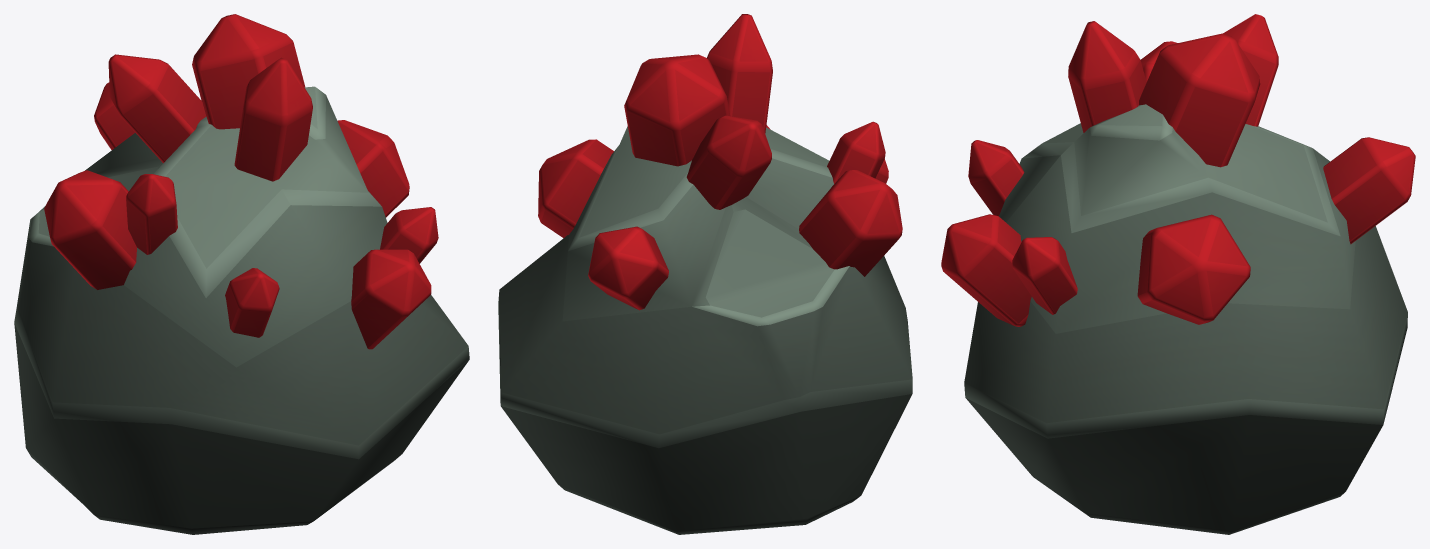
The picture shows the model from 3 angles, left to right: view 1: azimuth 30°, elevation 25°; view 2: azimuth 150°, elevation 25°; view 3: azimuth 270°, elevation 25°; orthographic projection. The views are drawn at different scales.
Visible parts, largest first — view 1: ore_christal_saphire_L_cube_mat_0.006; view 2: ore_christal_saphire_L_cube_mat_0.006; view 3: ore_christal_saphire_L_cube_mat_0.006.
Boxes of the visible parts, left/top/right/bottom form: ore_christal_saphire_L_cube_mat_0.006: left=14, top=14, right=469, bottom=534; ore_christal_saphire_L_cube_mat_0.006: left=498, top=14, right=912, bottom=534; ore_christal_saphire_L_cube_mat_0.006: left=941, top=14, right=1415, bottom=534.
Size of the model in its own units: 192 by 234 by 199.
1 material, 1 textured.
